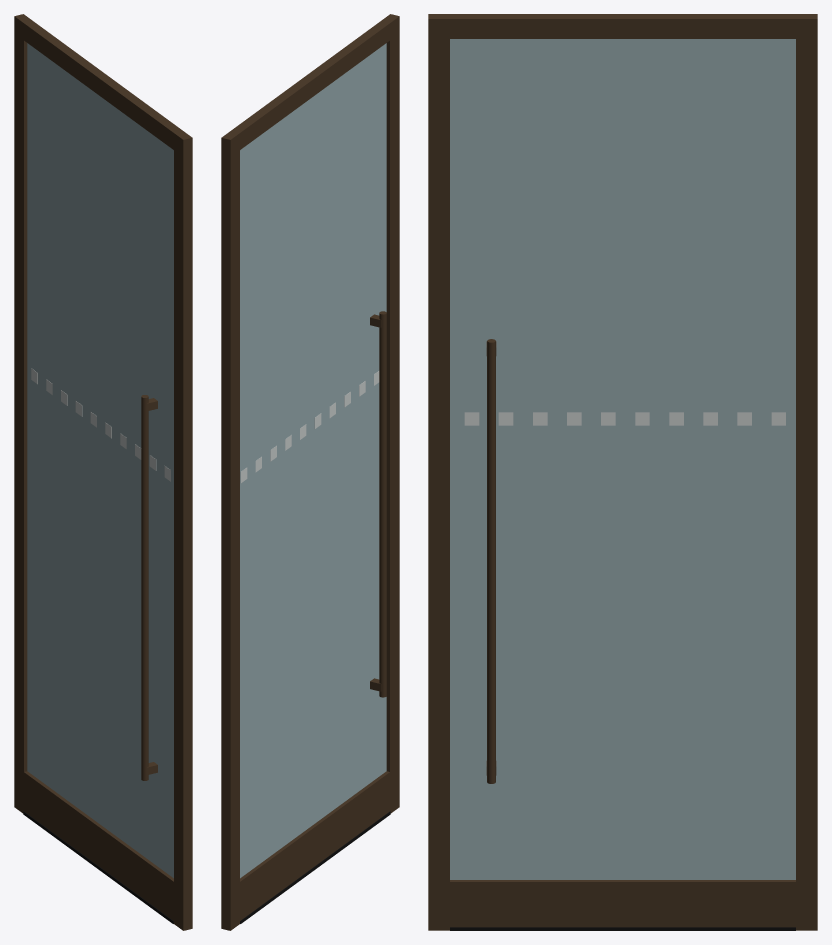
The model's file is SM_80s_GlassDoor.glb.
3 renders of one model, left to right at view 1: azimuth 30°, elevation 25°; view 2: azimuth 150°, elevation 25°; view 3: azimuth 270°, elevation 25°, orthographic. The views are drawn at different scales.
Visible parts, largest first — view 1: SM_80s_GlassDoor; view 2: SM_80s_GlassDoor; view 3: SM_80s_GlassDoor.
Part boxes in pixels (x1=…): SM_80s_GlassDoor: x1=14, y1=14, x2=192, y2=930; SM_80s_GlassDoor: x1=221, y1=14, x2=399, y2=930; SM_80s_GlassDoor: x1=428, y1=14, x2=817, y2=930.
Bounding box in the file's own units: 0.206 × 4.13 × 1.6.
